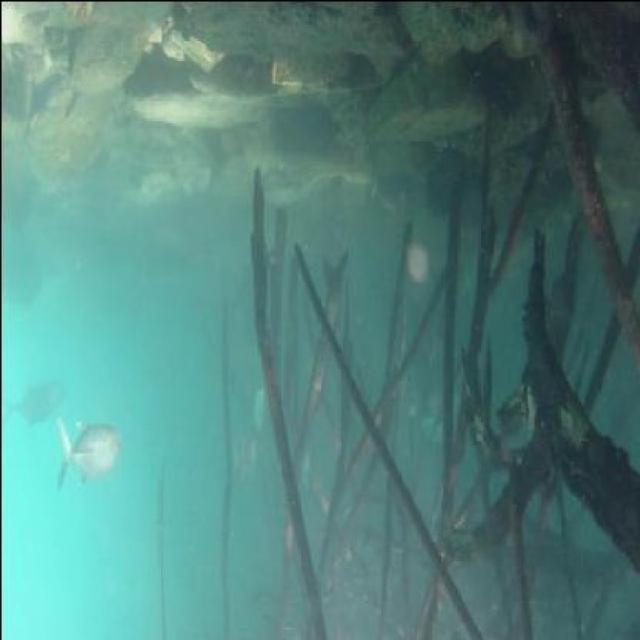Caranx_sexfasciatus_juvenile: (51, 412, 122, 496), (2, 364, 68, 428), (225, 426, 262, 488), (238, 371, 264, 423)
